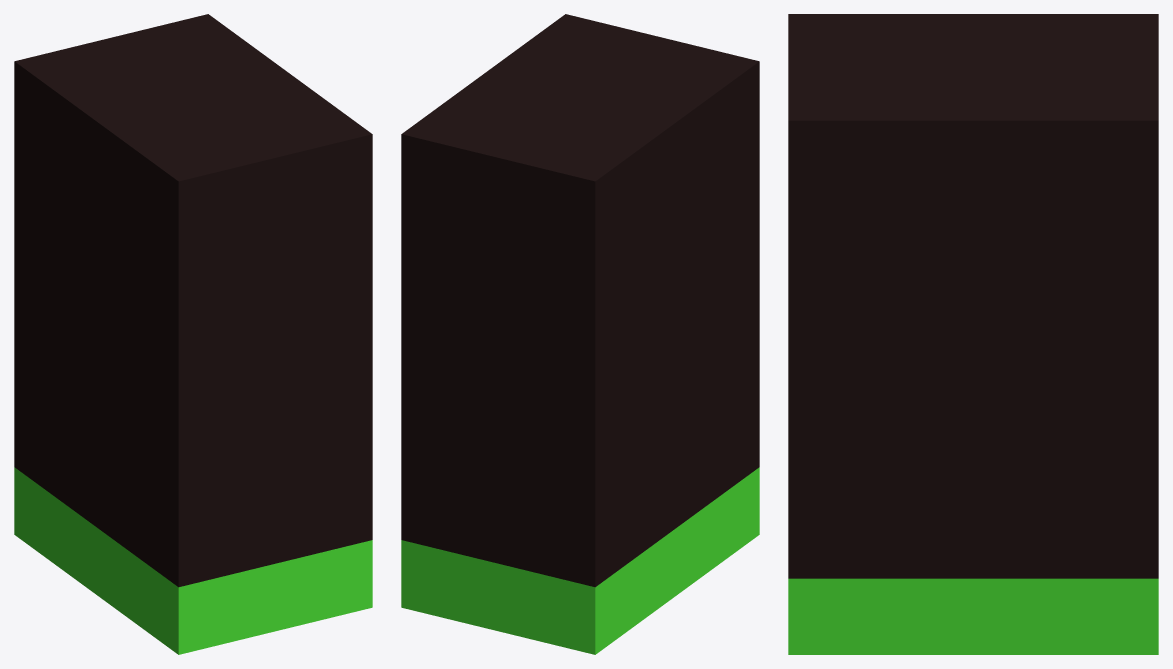
The model's file is zombie1-3.obj.
The picture shows the model from 3 angles, left to right: view 1: azimuth 30°, elevation 25°; view 2: azimuth 150°, elevation 25°; view 3: azimuth 270°, elevation 25°; orthographic projection. The views are drawn at different scales.
Size of the model in its own units: 1.5 by 3.5 by 2.2.
Materials: 1 (1 with a texture image).
